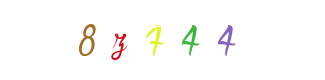4: (146, 0, 226, 80), (150, 0, 230, 80)
7: (122, 0, 202, 80)
8: (60, 0, 140, 80)
Z: (115, 0, 195, 80)
